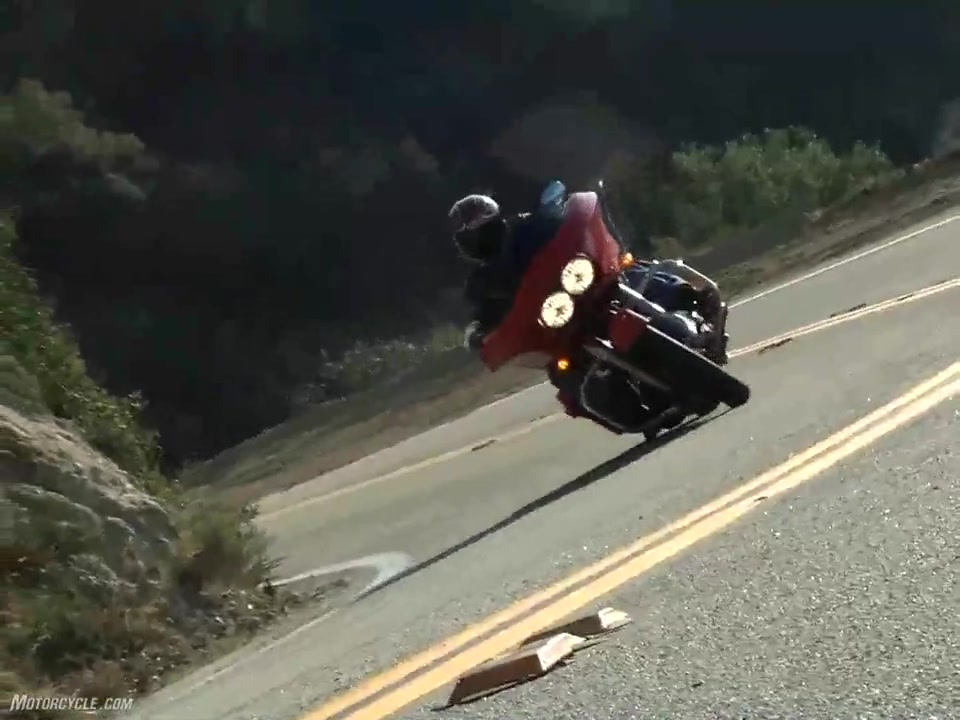motorbike: (459, 181, 751, 442)
